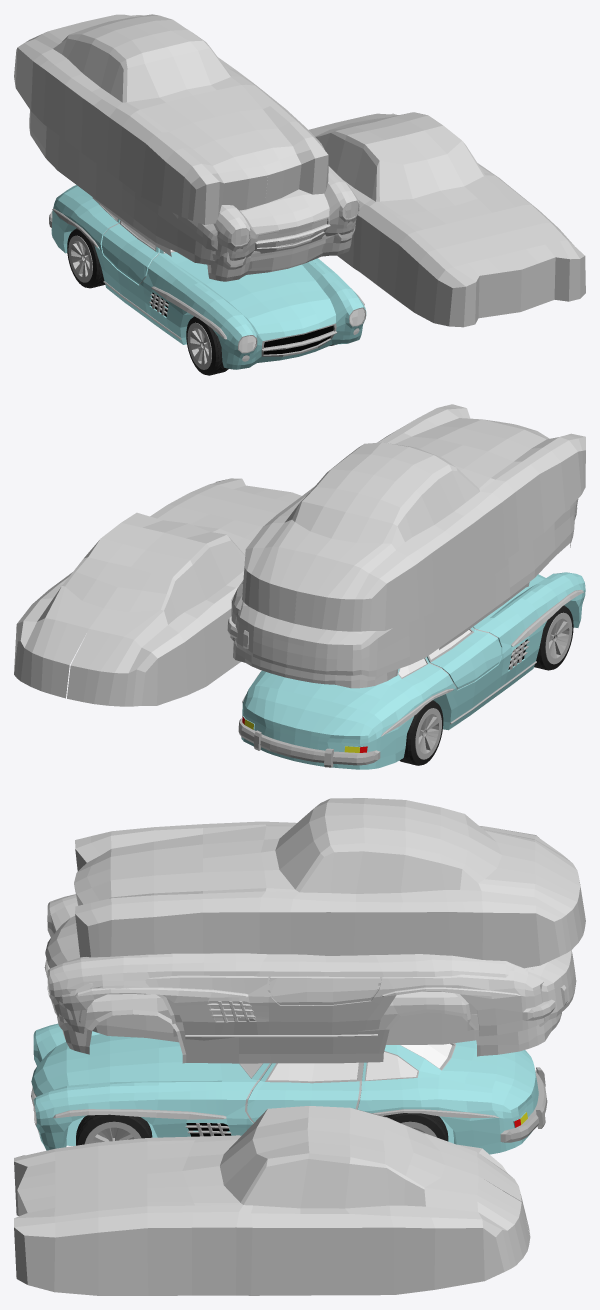
Rendered from MERCEDES.fbx.
The picture shows the model from 3 angles, top to bottom: view 1: azimuth 30°, elevation 25°; view 2: azimuth 150°, elevation 25°; view 3: azimuth 270°, elevation 25°; orthographic projection. The views are drawn at different scales.
Visible parts, largest first — view 1: Cube.002, Cube.001, Cube, Cube.005, Cube.003, Cube.004, Cylinder.005, Cylinder.006, Cylinder.007, Cylinder.004; view 2: Cube.002, Cube.001, Cube, Cube.003, Cube.004, Cylinder.005, Cylinder.006, Cylinder.004, Cylinder.007, Cube.006; view 3: Cube.001, Cube.002, Cube, Cube.006, Cube.005, Cube.004, Cube.003, Cylinder, Cylinder.001, Cylinder.003.
Boxes of the visible parts, x1,y1,x2,y2 form: Cube.002: [14, 14, 328, 224]; Cube.001: [309, 112, 585, 327]; Cube: [49, 185, 366, 369]; Cube.005: [212, 166, 359, 260]; Cube.003: [29, 110, 217, 264]; Cube.004: [92, 197, 355, 281]; Cylinder.005: [68, 235, 92, 282]; Cylinder.006: [187, 322, 211, 369]; Cylinder.007: [186, 316, 228, 375]; Cylinder.004: [67, 228, 105, 288]; Cube.002: [242, 404, 585, 631]; Cube.001: [14, 478, 301, 706]; Cube: [238, 572, 585, 769]; Cube.003: [234, 499, 578, 676]; Cube.004: [233, 507, 577, 688]; Cylinder.005: [415, 708, 441, 759]; Cylinder.006: [545, 612, 572, 664]; Cylinder.004: [399, 700, 443, 765]; Cylinder.007: [534, 605, 573, 670]; Cube.006: [227, 580, 248, 649]; Cube.001: [14, 1106, 530, 1295]; Cube.002: [74, 798, 585, 968]; Cube: [31, 1023, 547, 1154]; Cube.006: [59, 965, 567, 1040]; Cube.005: [44, 894, 514, 1036]; Cube.004: [57, 991, 561, 1063]; Cube.003: [92, 950, 576, 1044]; Cylinder: [76, 1114, 152, 1145]; Cylinder.001: [84, 1121, 141, 1144]; Cylinder.003: [383, 1113, 448, 1141].
Size of the model in its own units: 599 by 381 by 628.
